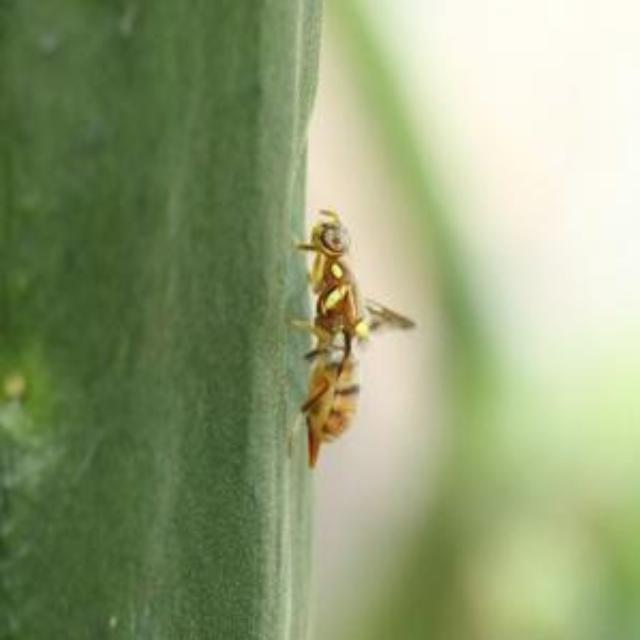melon fly: (235, 174, 438, 478)
